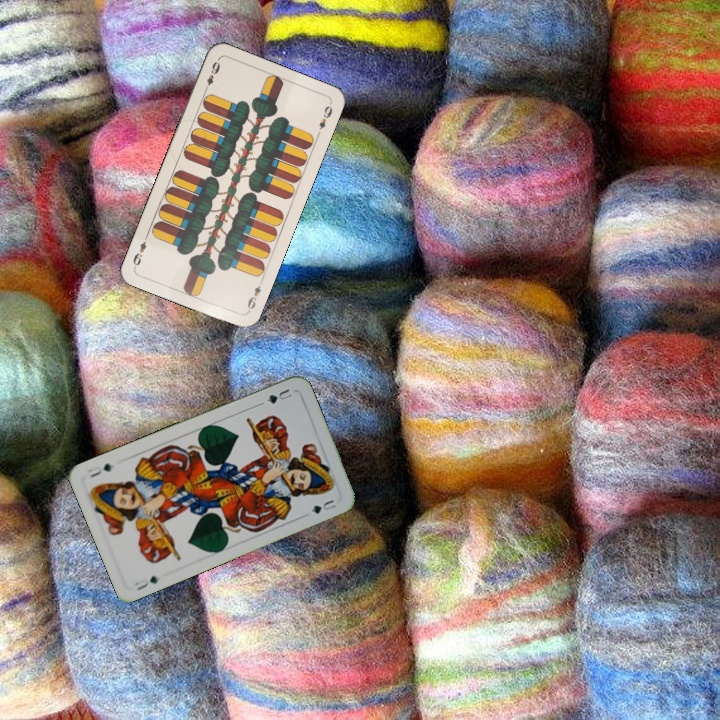E9: (200, 57, 223, 95), (243, 276, 265, 315)
GU: (257, 384, 295, 407), (130, 572, 161, 593)
